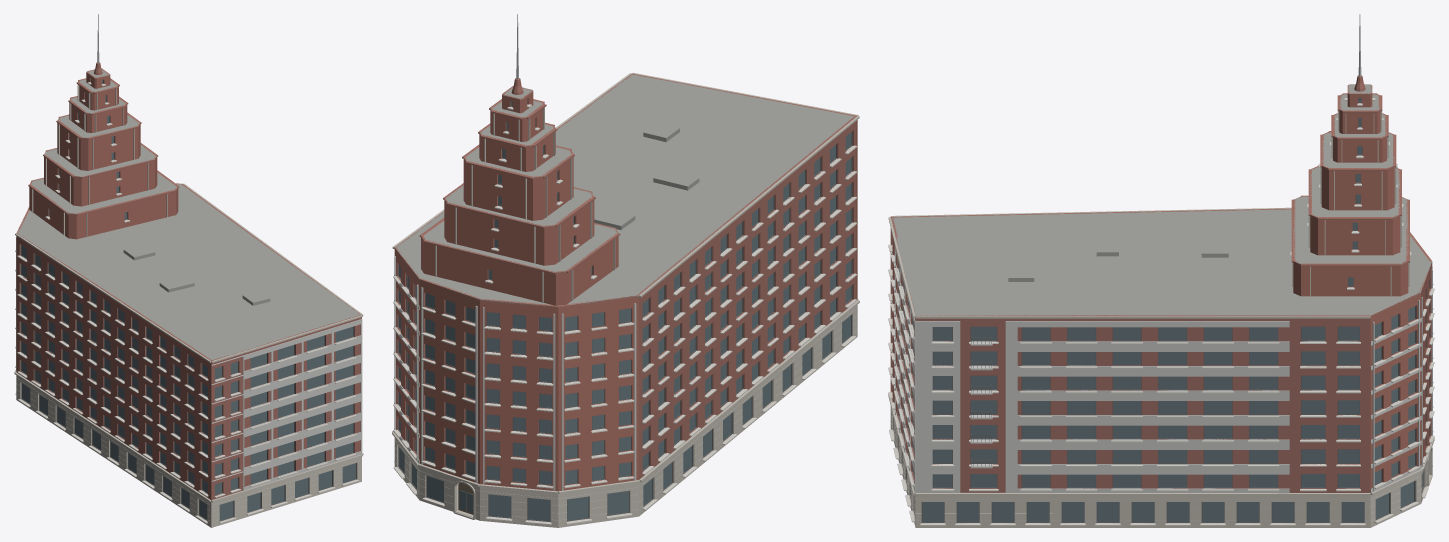
Rendered from huangpu-chung-wei-bank-building-lod.glb.
3 renders of one model, left to right at view 1: azimuth 30°, elevation 25°; view 2: azimuth 150°, elevation 25°; view 3: azimuth 270°, elevation 25°, orthographic. The views are drawn at different scales.
Visible parts, largest first — view 1: 中汇大楼（原中汇银行大楼）; view 2: 中汇大楼（原中汇银行大楼）; view 3: 中汇大楼（原中汇银行大楼）.
Part boxes in pixels (x1,y1,x2,y2): 中汇大楼（原中汇银行大楼）: [14, 14, 363, 527]; 中汇大楼（原中汇银行大楼）: [392, 14, 859, 527]; 中汇大楼（原中汇银行大楼）: [888, 14, 1434, 527].
Bounding box in the file's own units: 35.58 × 67.99 × 73.3.
